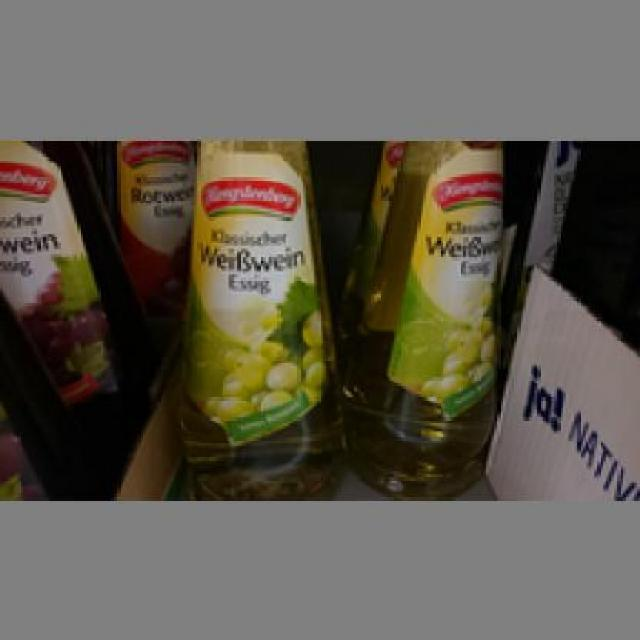Vinegar: (177, 134, 343, 497), (358, 134, 502, 494), (0, 137, 140, 470), (108, 137, 188, 303)
